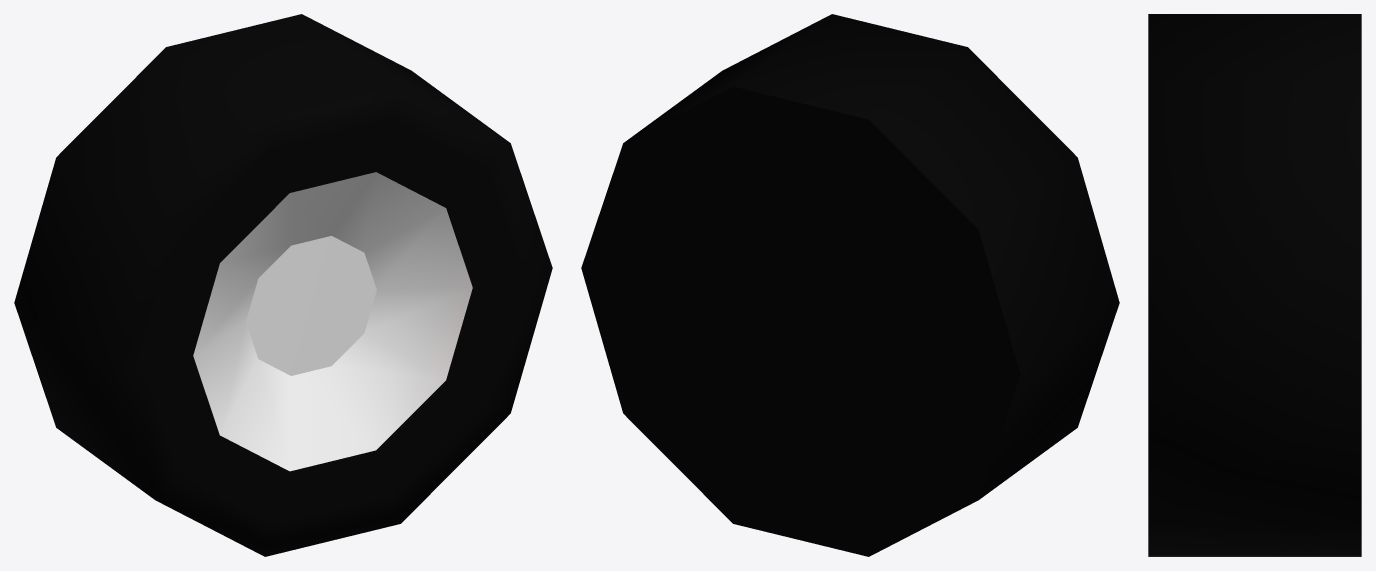
File: Whell_5.fbx
3 views of the same model, side by side, from view 1: azimuth 30°, elevation 25°; view 2: azimuth 150°, elevation 25°; view 3: azimuth 270°, elevation 25° (orthographic). The views are drawn at different scales.
Parts seen in each view (by area): view 1: Whell_5; view 2: Whell_5; view 3: Whell_5.
Part boxes in pixels (bbox=[...]): Whell_5: bbox=[14, 14, 552, 556]; Whell_5: bbox=[581, 14, 1119, 556]; Whell_5: bbox=[1148, 14, 1361, 556].
Size of the model in its own units: 75.37 by 71.68 by 29.43.
Materials: 1 (1 with a texture image).
